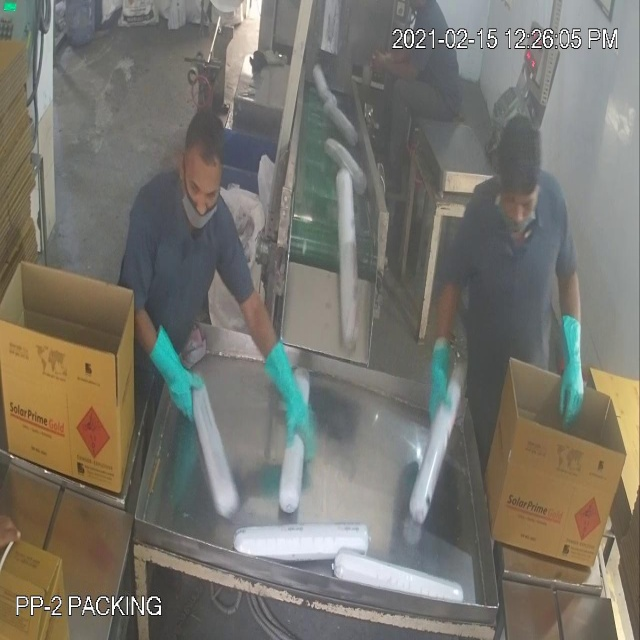Guantes: (133, 311, 214, 437), (255, 326, 321, 477), (556, 294, 592, 436), (424, 332, 464, 444)
Sin_guantes: (364, 53, 437, 95)
